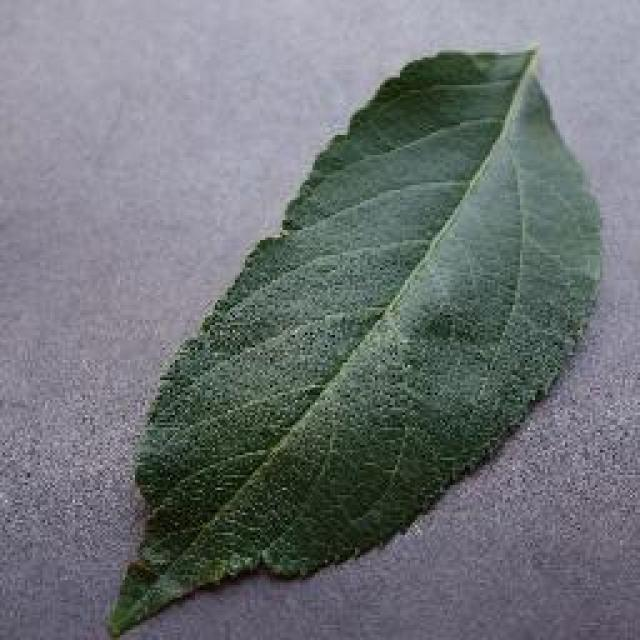apple healthy: (105, 40, 605, 638)
